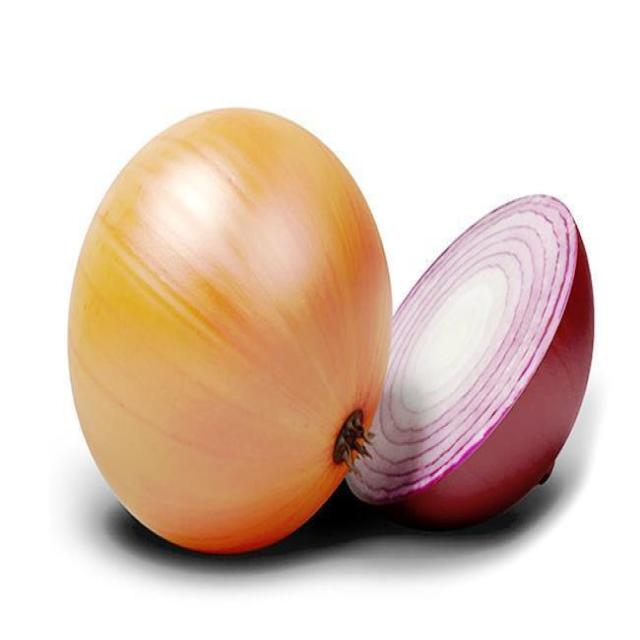Onion: (66, 105, 392, 554), (344, 190, 596, 532)
